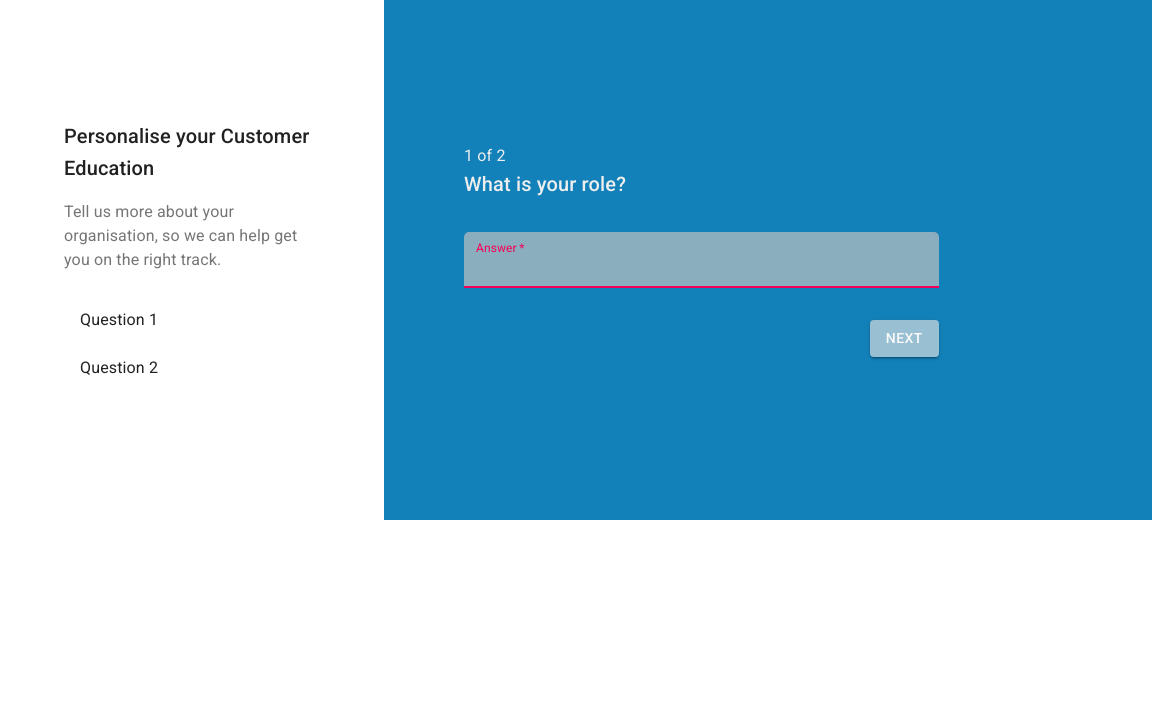
Test case: AmbitionSetting tests › Check the questions side panel is working
Click the button "Question 2" at (119, 368), box [80, 358, 158, 377]
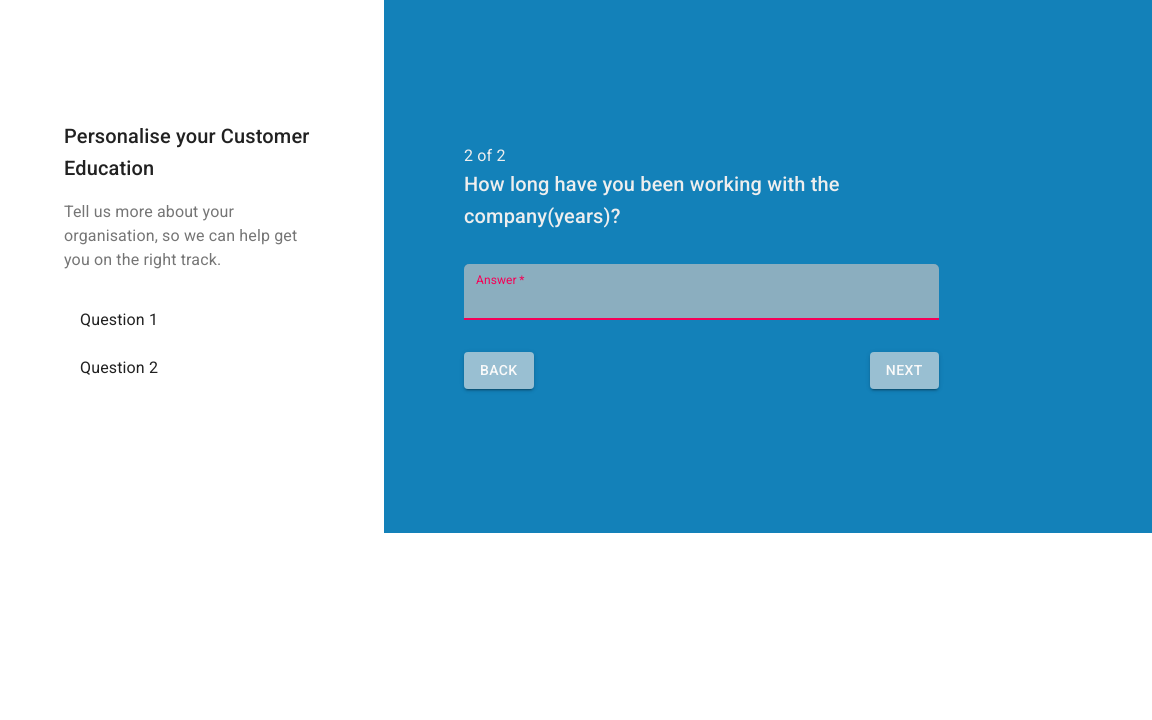
Expected: the heading "How long have you been working with the company(years)?" is shown, [464, 172, 840, 228]
